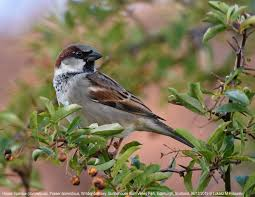hsparrow: (47, 40, 198, 151)
